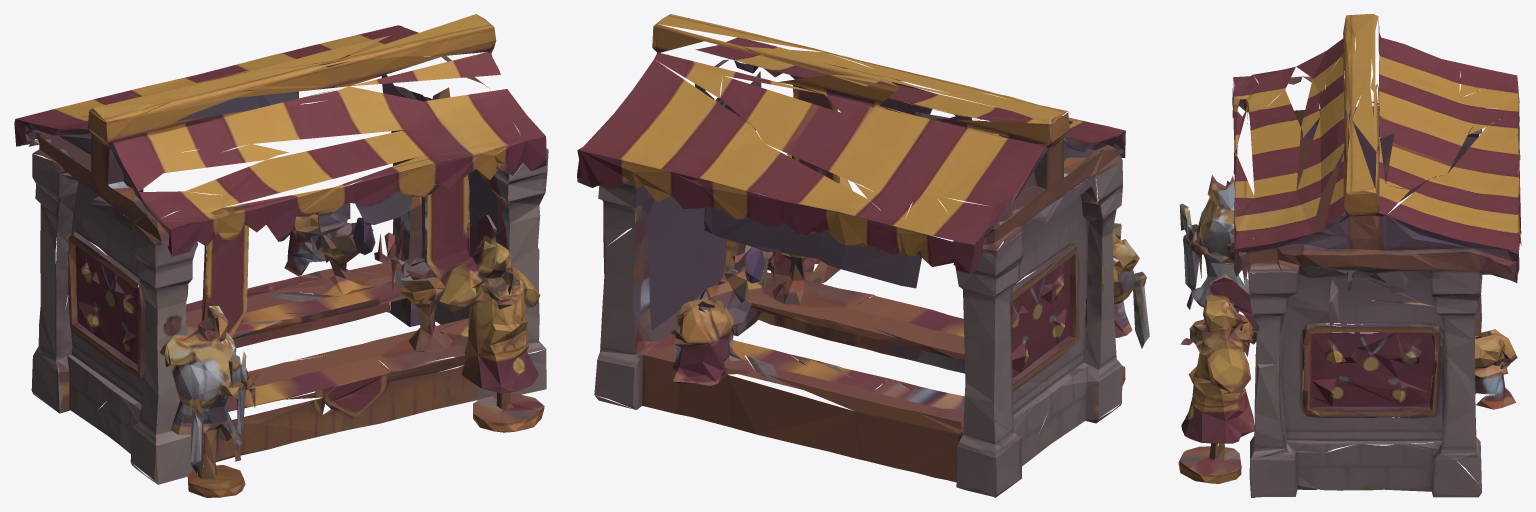
File: shop_champions.glb
The picture shows the model from 3 angles, left to right: view 1: azimuth 30°, elevation 25°; view 2: azimuth 150°, elevation 25°; view 3: azimuth 270°, elevation 25°; orthographic projection. The views are drawn at different scales.
Visible parts, largest first — view 1: geometry_0; view 2: geometry_0; view 3: geometry_0.
Part boxes in pixels (x1,y1,x2,y2): geometry_0: (14, 14, 548, 497); geometry_0: (577, 14, 1149, 497); geometry_0: (1178, 14, 1521, 497).
Bounding box in the file's own units: 2.3 × 1.83 × 1.85.
1 material, 1 textured.
